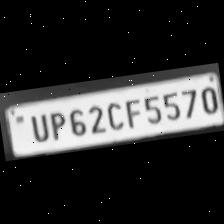0: (195, 82, 220, 116)
2: (83, 101, 106, 136)
5: (140, 92, 164, 125), (159, 89, 182, 123)
6: (64, 104, 88, 138)
7: (177, 85, 200, 120)
C: (103, 99, 125, 133)
F: (121, 96, 144, 130)
P: (46, 108, 68, 141)
U: (25, 110, 50, 144)
